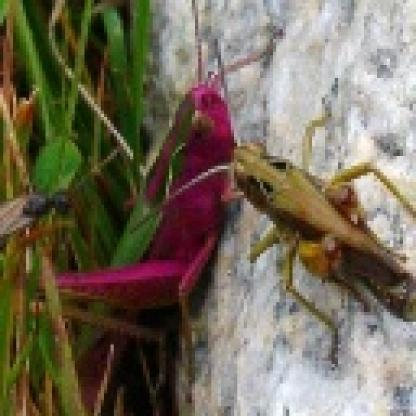grasshopper: (42, 56, 228, 364), (212, 115, 416, 351)
